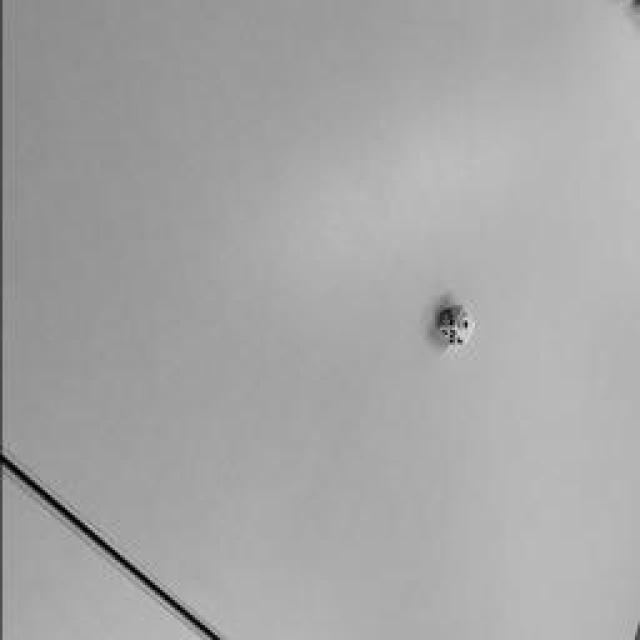dice_1: (454, 306, 474, 344)
